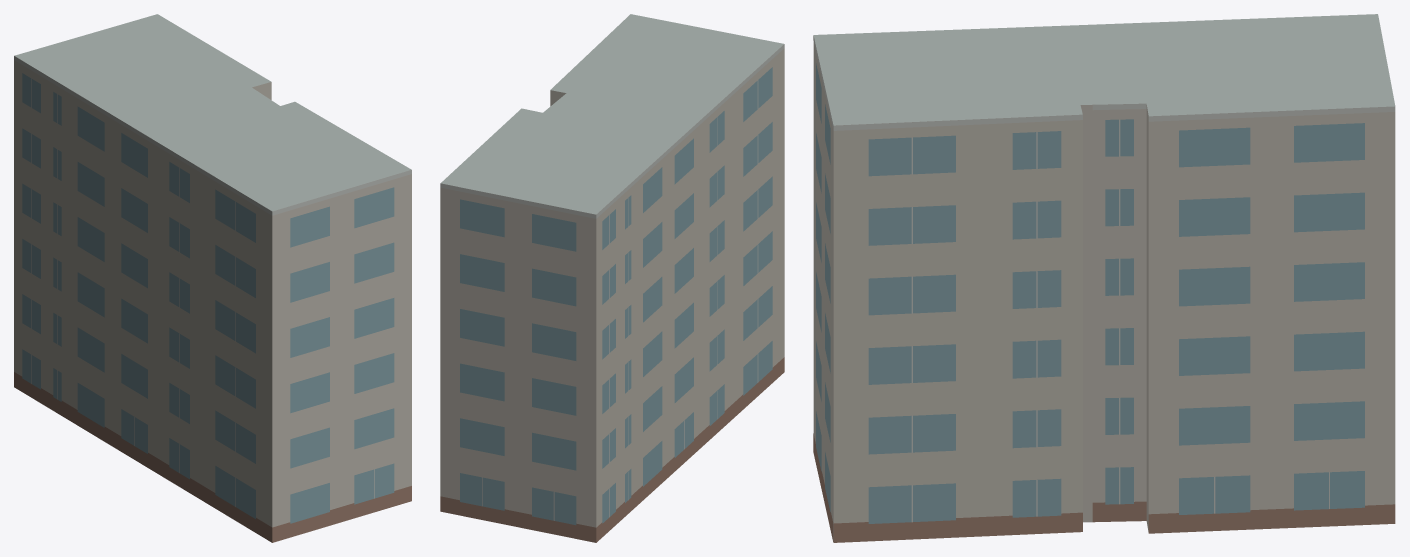
The model's file is survey-upis-32956692.glb.
3 views of the same model, side by side, from view 1: azimuth 30°, elevation 25°; view 2: azimuth 150°, elevation 25°; view 3: azimuth 270°, elevation 25° (orthographic). The views are drawn at different scales.
Visible parts, largest first — view 1: survey-upis-32956692.tmp; view 2: survey-upis-32956692.tmp; view 3: survey-upis-32956692.tmp.
Boxes of the visible parts, bbox=[...] form: survey-upis-32956692.tmp: bbox=[14, 14, 411, 542]; survey-upis-32956692.tmp: bbox=[440, 14, 784, 542]; survey-upis-32956692.tmp: bbox=[813, 14, 1395, 542].
Bounding box in the file's own units: 10.82 × 18.85 × 23.83.
